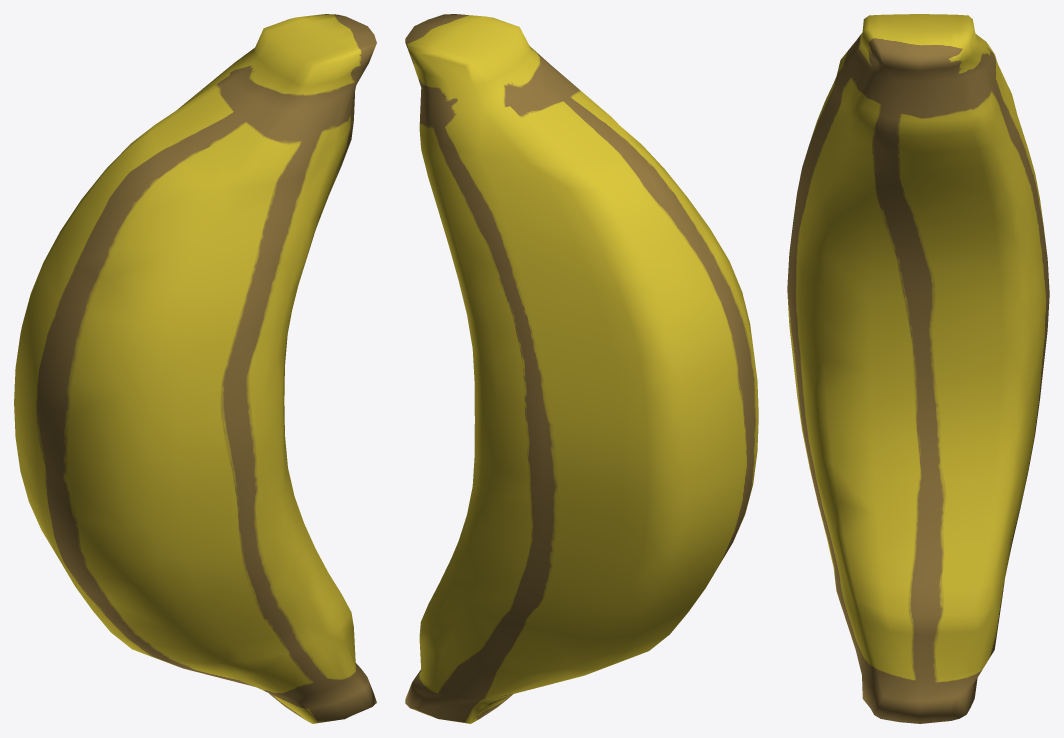
File: banana pickup lower res.fbx
3 views of the same model, side by side, from view 1: azimuth 30°, elevation 25°; view 2: azimuth 150°, elevation 25°; view 3: azimuth 270°, elevation 25° (orthographic).
Visible parts, largest first — view 1: polySurface1; view 2: polySurface1; view 3: polySurface1.
Boxes of the visible parts, bbox=[...] form: polySurface1: bbox=[14, 14, 376, 723]; polySurface1: bbox=[405, 14, 758, 723]; polySurface1: bbox=[787, 14, 1049, 723].
Bounding box in the file's own units: 1.93 × 3.7 × 1.3.
Materials: 1 (1 with a texture image).
